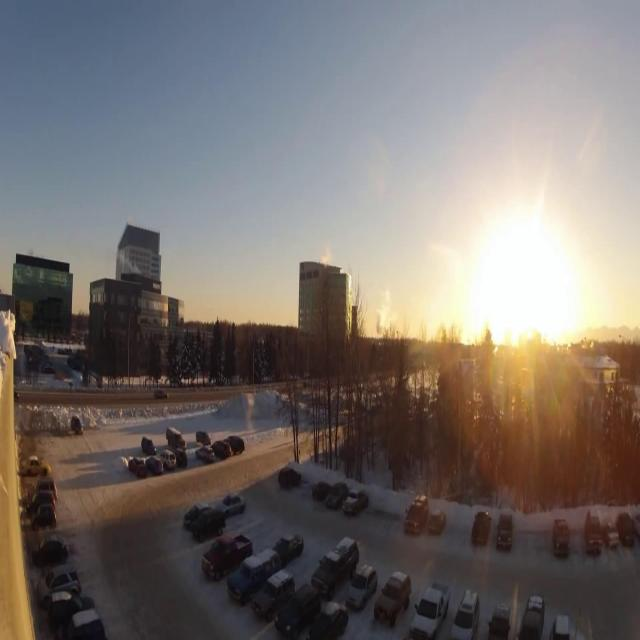fire: (459, 258, 584, 337)
